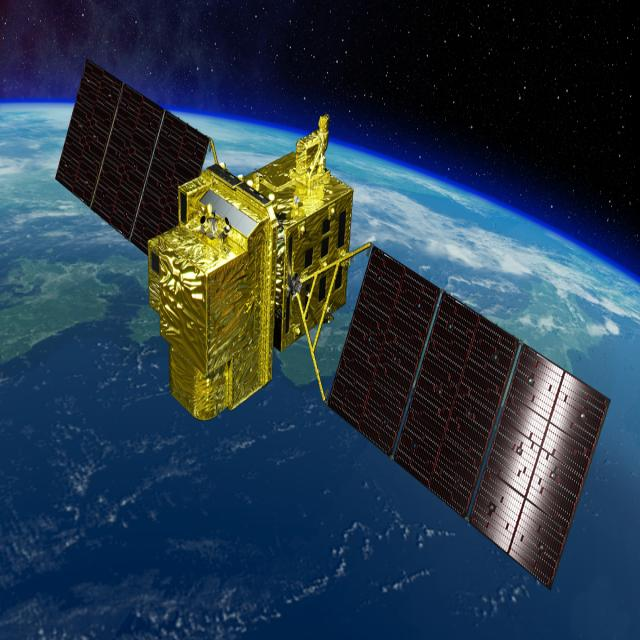satellite: (51, 40, 614, 600)
